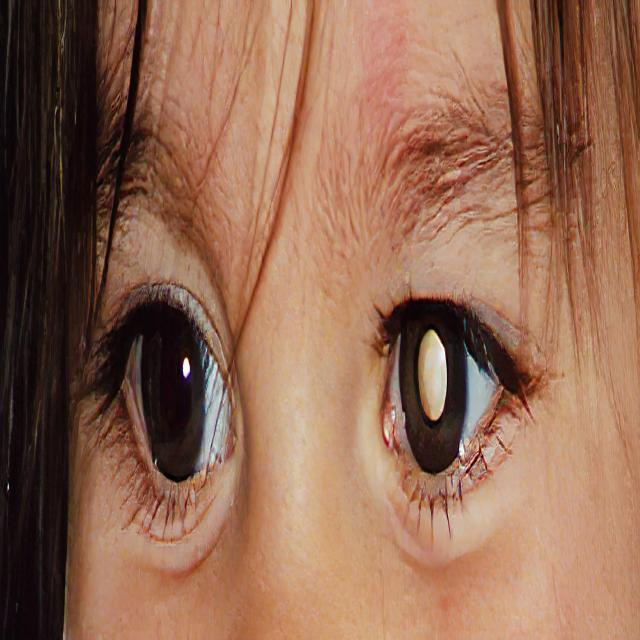reflexo-alterado: (366, 216, 523, 536), (94, 256, 246, 534)
